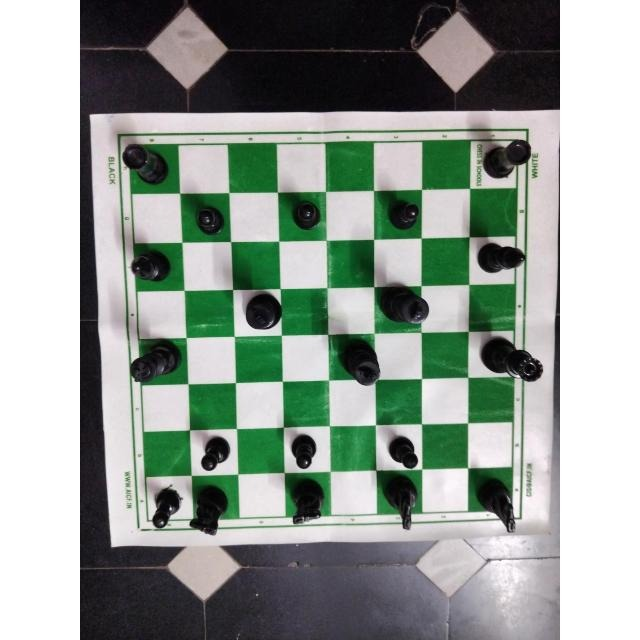black-bishop: (474, 232, 531, 284), (127, 246, 177, 290)
black-king: (124, 339, 184, 387), (335, 334, 383, 390), (377, 281, 435, 327), (236, 287, 290, 334)
black-knight: (468, 467, 524, 538), (380, 474, 424, 534), (282, 473, 327, 530), (187, 482, 229, 540)
black-pawn: (190, 429, 238, 473), (381, 430, 424, 474), (282, 425, 324, 469), (287, 193, 329, 236), (189, 202, 230, 246), (144, 486, 181, 532), (384, 194, 424, 236)
black-queen: (477, 332, 547, 392)
black-rook: (479, 133, 536, 180), (120, 139, 174, 187)
